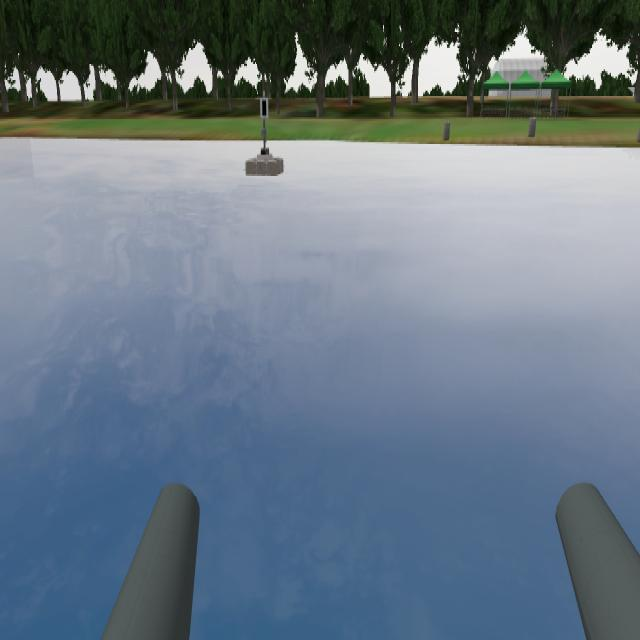black_pole: (255, 90, 273, 126)
